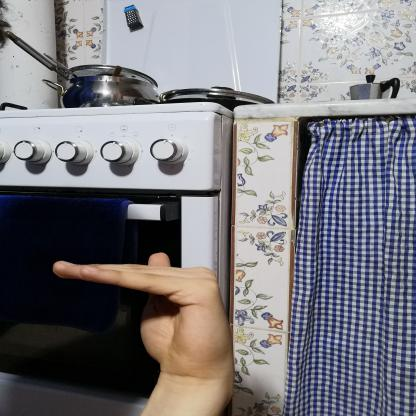KHAA: (40, 243, 243, 379)
